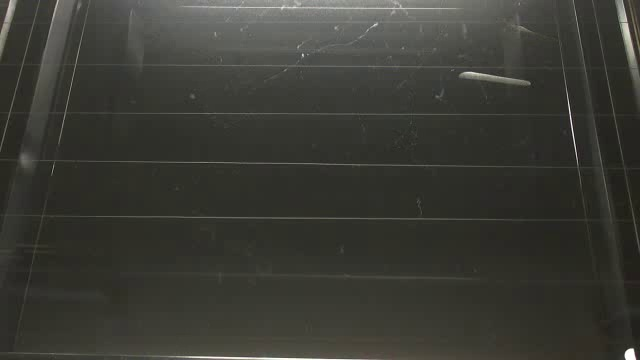Alfa: (458, 65, 535, 91)
